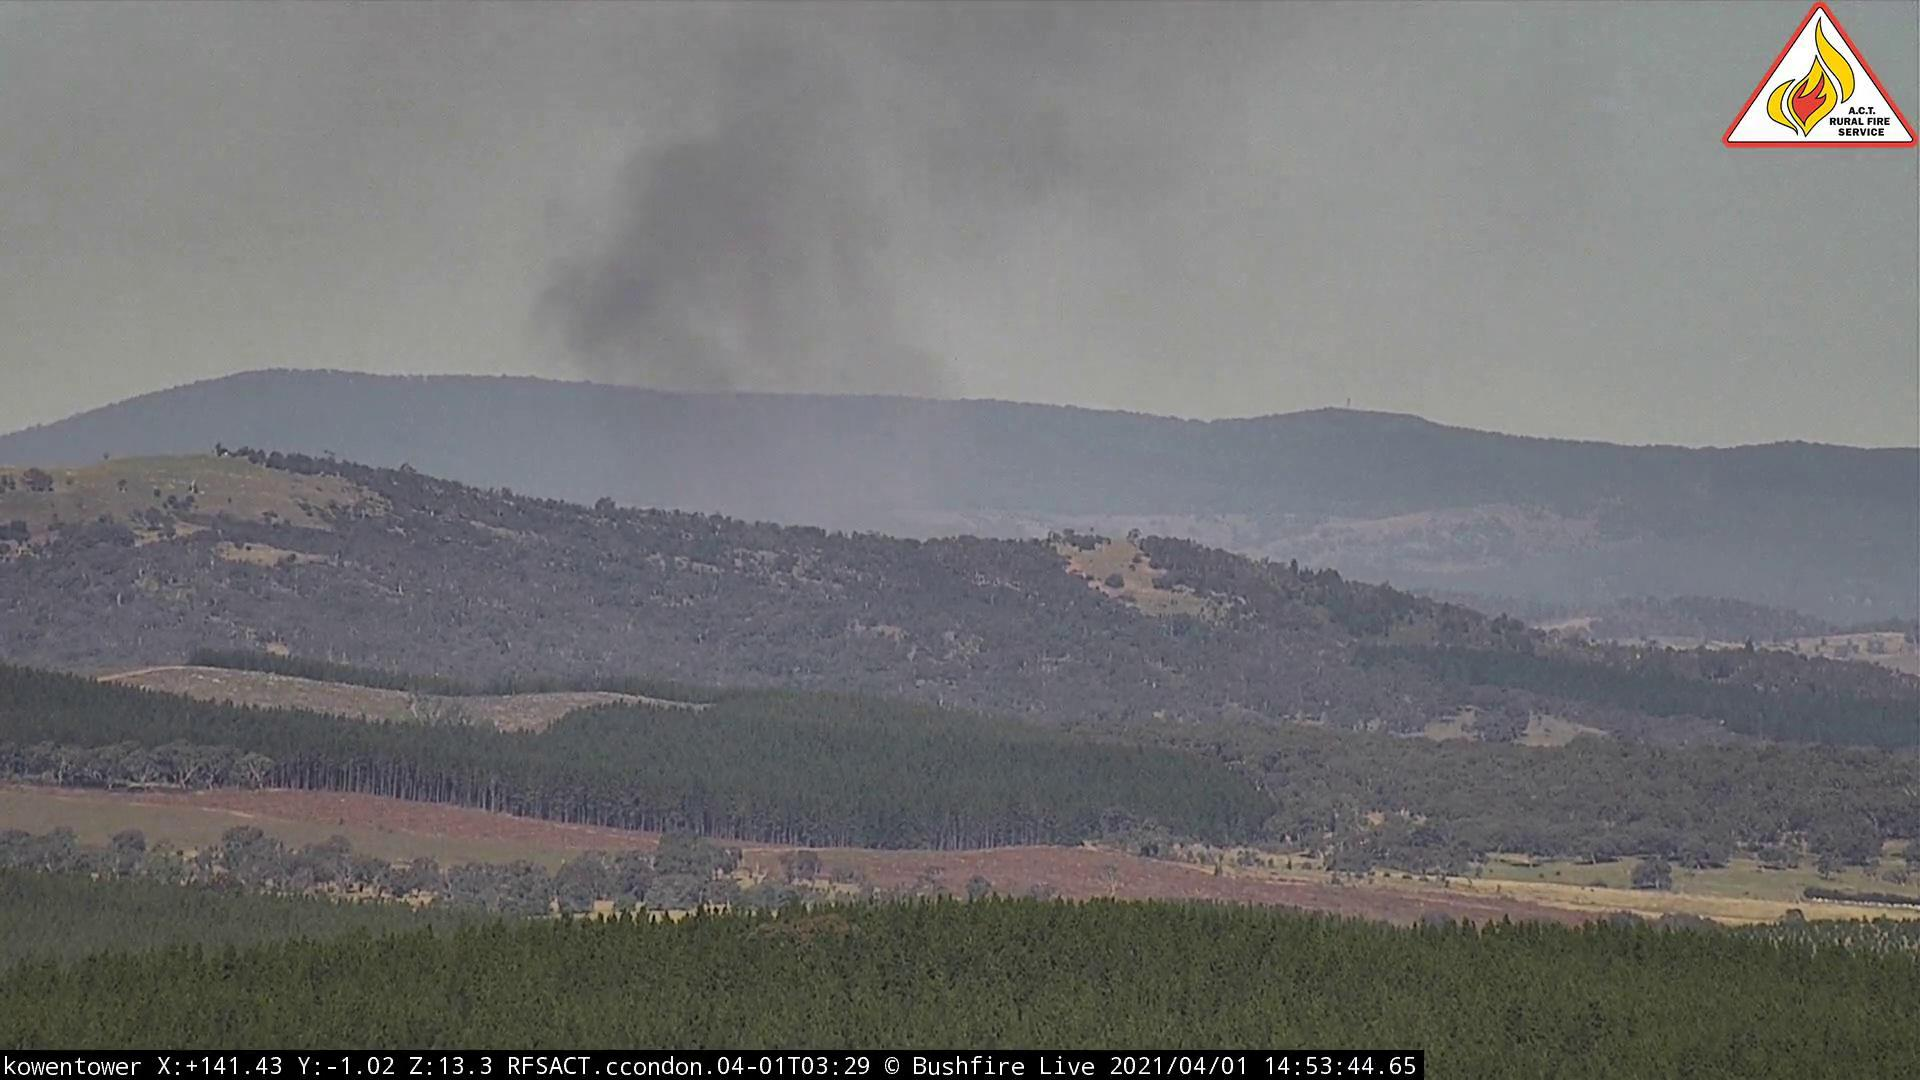Smoke: (502, 3, 1267, 530)
